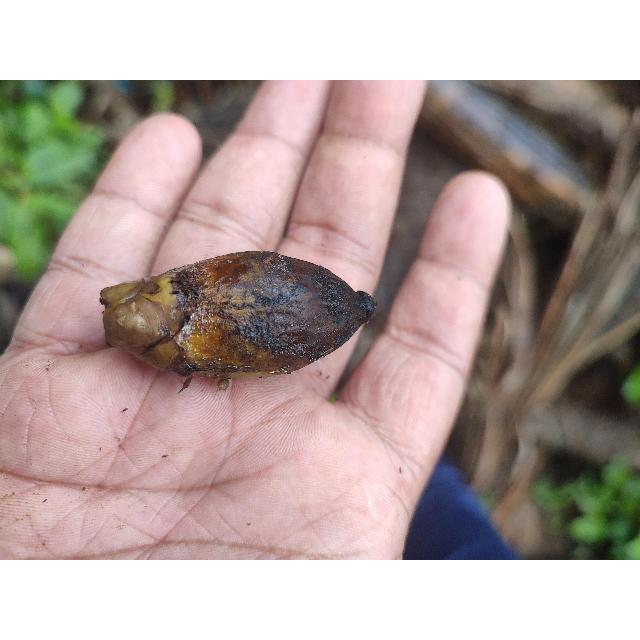damaged: (98, 251, 377, 385)
